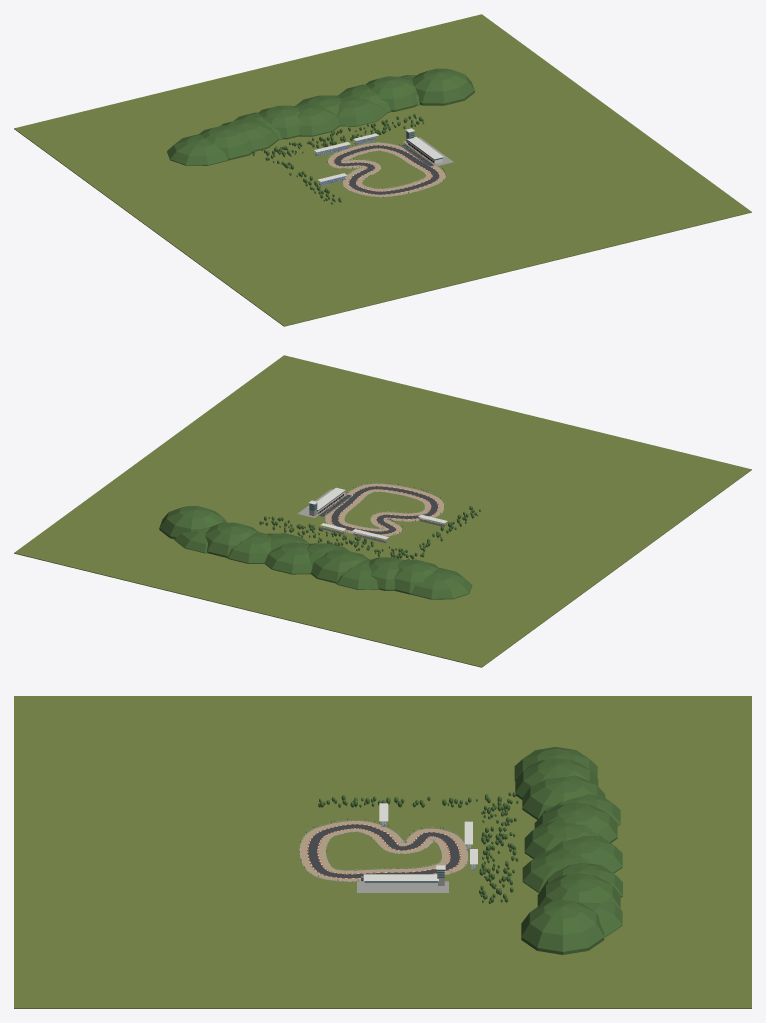
Rendered from track.glb.
3 views of the same model, one above another, from view 1: azimuth 30°, elevation 25°; view 2: azimuth 150°, elevation 25°; view 3: azimuth 270°, elevation 25° (orthographic). The views are drawn at different scales.
Parts seen in each view (by area): view 1: Meadow green, Tree foliage, Gravel runoff, Weathered asphalt, Warm white, Concrete; view 2: Meadow green, Tree foliage, Gravel runoff, Weathered asphalt, Warm white, Concrete; view 3: Meadow green, Tree foliage, Gravel runoff, Warm white, Weathered asphalt, Concrete, Galvanized barriers.
Boxes of the visible parts, x1,y1,x2,y2 form: Meadow green: [14, 14, 751, 326]; Tree foliage: [167, 68, 474, 204]; Gravel runoff: [328, 143, 445, 196]; Weathered asphalt: [334, 144, 439, 194]; Warm white: [314, 128, 443, 194]; Concrete: [315, 131, 453, 185]; Meadow green: [14, 355, 751, 667]; Tree foliage: [159, 505, 480, 599]; Gravel runoff: [325, 483, 444, 536]; Weathered asphalt: [319, 486, 437, 534]; Warm white: [308, 486, 447, 539]; Concrete: [297, 489, 446, 543]; Meadow green: [14, 696, 751, 1008]; Tree foliage: [318, 747, 622, 954]; Gravel runoff: [299, 821, 468, 881]; Warm white: [307, 803, 477, 887]; Weathered asphalt: [308, 824, 459, 880]; Concrete: [357, 821, 475, 892]; Galvanized barriers: [299, 819, 475, 881].
Size of the model in its own units: 1400 by 129 by 1400.
